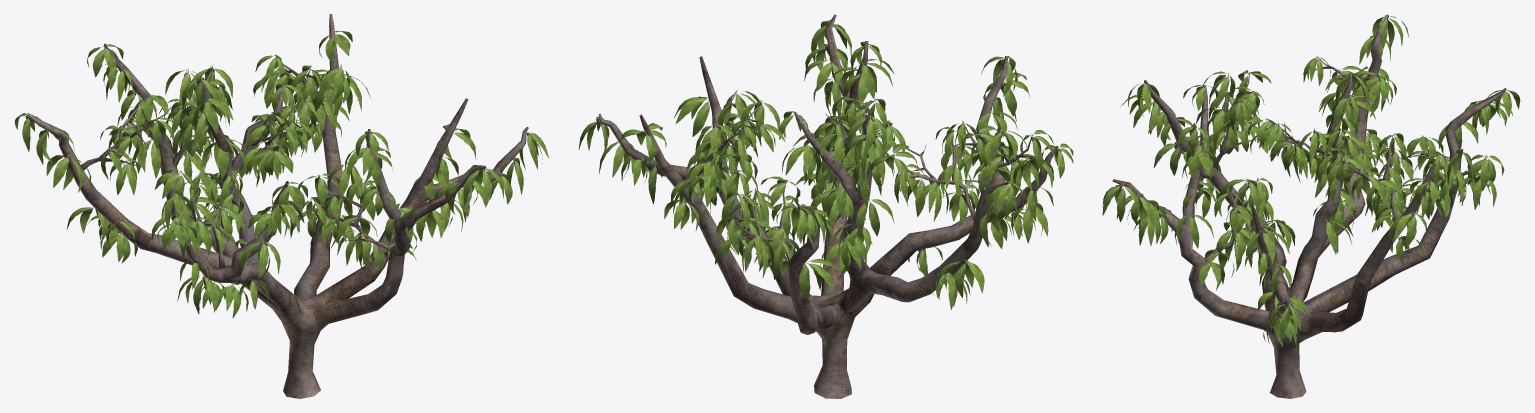
The model's file is peachTree1_lod0.fbx.
The picture shows the model from 3 angles, left to right: view 1: azimuth 30°, elevation 25°; view 2: azimuth 150°, elevation 25°; view 3: azimuth 270°, elevation 25°; orthographic projection. The views are drawn at different scales.
Visible parts, largest first — view 1: peachTree1_lod0; view 2: peachTree1_lod0; view 3: peachTree1_lod0.
Boxes of the visible parts, bbox=[...] form: peachTree1_lod0: bbox=[14, 14, 548, 398]; peachTree1_lod0: bbox=[578, 14, 1073, 398]; peachTree1_lod0: bbox=[1102, 14, 1520, 398].
Bounding box in the file's own units: 473 × 295 × 385.
